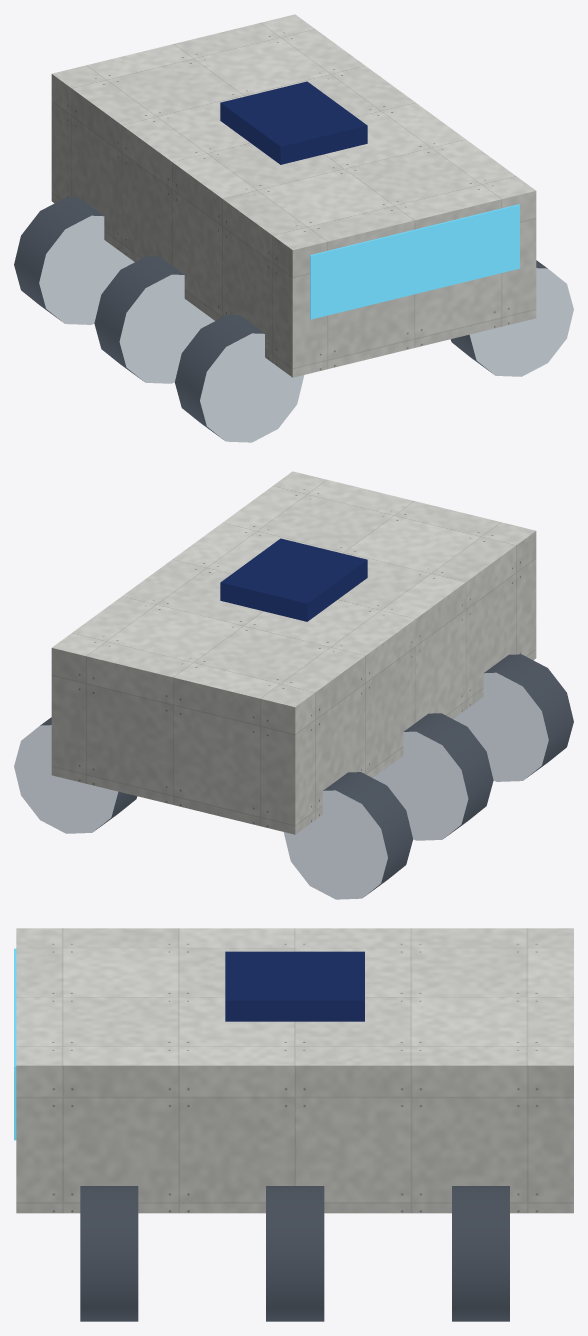
Rendered from prop_surface_rover.glb.
3 views of the same model, one above another, from view 1: azimuth 30°, elevation 25°; view 2: azimuth 150°, elevation 25°; view 3: azimuth 270°, elevation 25° (orthographic). The views are drawn at different scales.
Visible parts, largest first — view 1: prop_surface_rover_LOD0; view 2: prop_surface_rover_LOD0; view 3: prop_surface_rover_LOD0.
Boxes of the visible parts, x1,y1,x2,y2 form: prop_surface_rover_LOD0: (14, 14, 573, 442); prop_surface_rover_LOD0: (14, 471, 573, 899); prop_surface_rover_LOD0: (14, 928, 573, 1321).
Size of what is drawn, in the model's own units: 4.3 by 2.5 by 4.82.
Materials: 2 (2 with a texture image).
